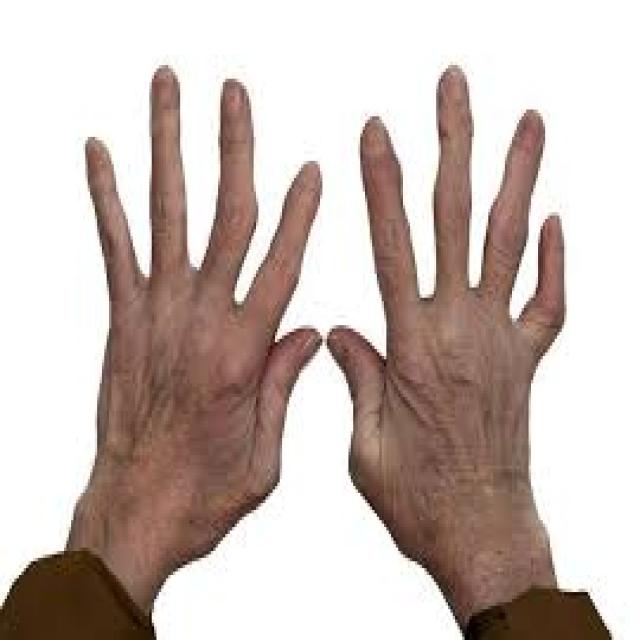hand: (52, 54, 324, 604)
